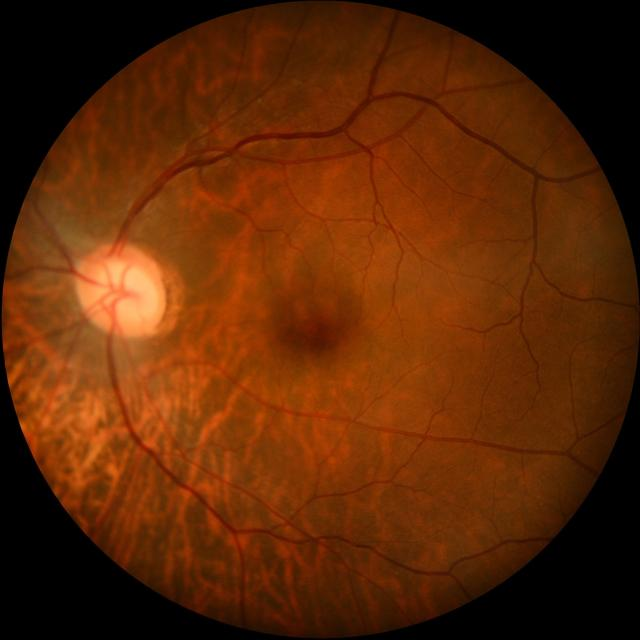OC: (92, 263, 152, 321)
OD: (77, 240, 166, 339)
